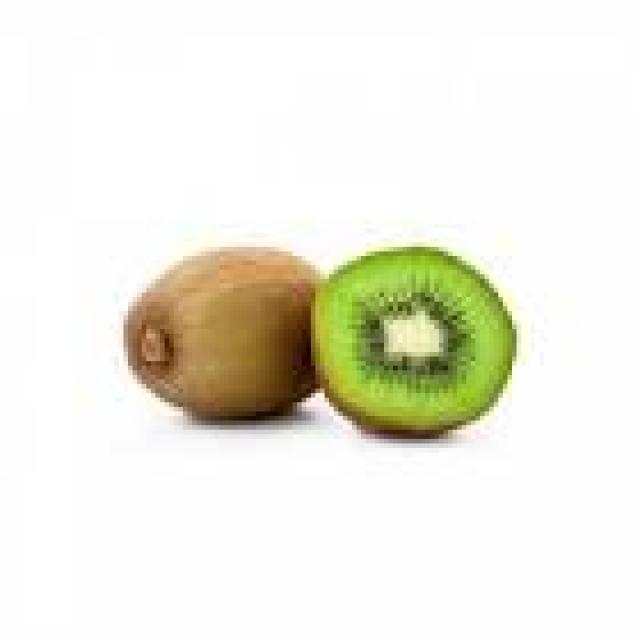kivi: (314, 248, 515, 434), (125, 248, 316, 419)
